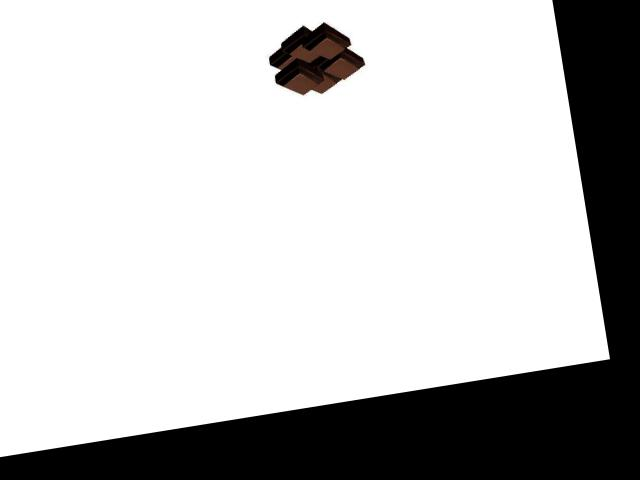chocolate: (262, 20, 367, 104)
